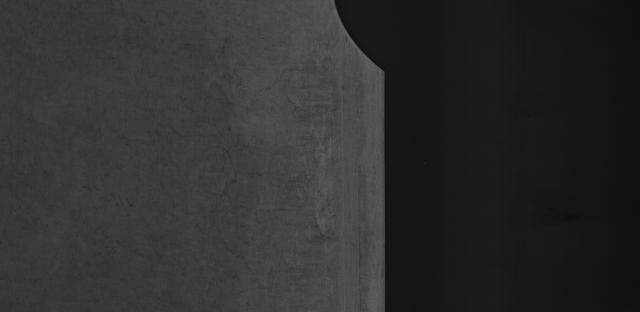crescent_gap: (323, 0, 396, 92)
